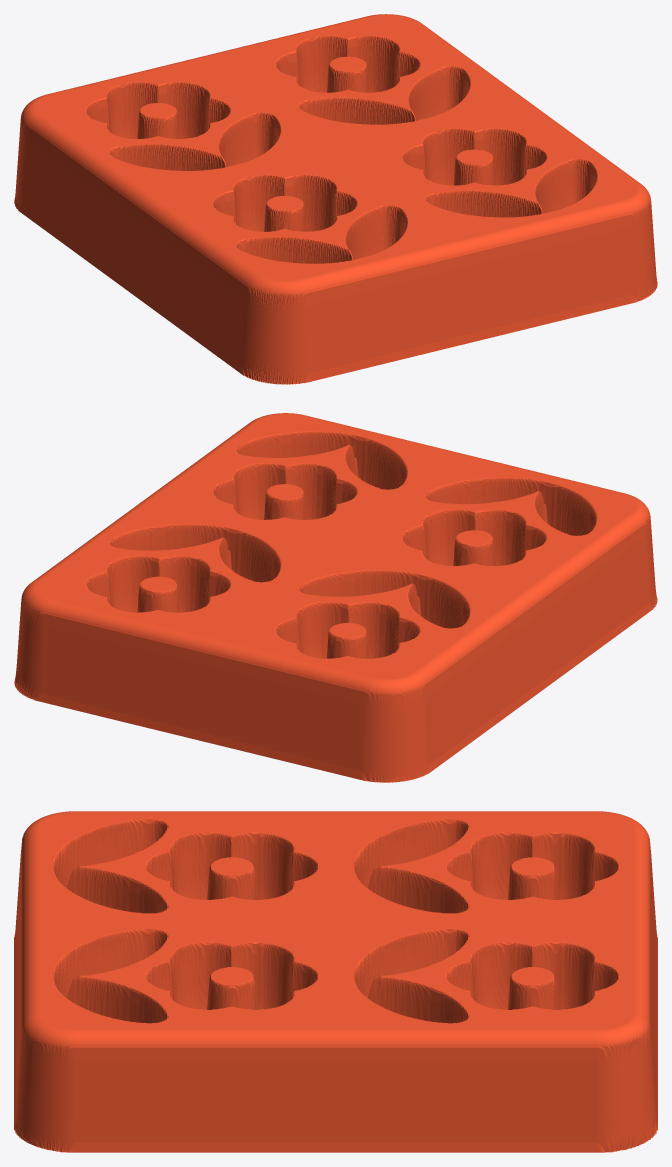
The model's file is mold.glb.
3 views of the same model, one above another, from view 1: azimuth 30°, elevation 25°; view 2: azimuth 150°, elevation 25°; view 3: azimuth 270°, elevation 25° (orthographic). The views are drawn at different scales.
Visible parts, largest first — view 1: geometry_0; view 2: geometry_0; view 3: geometry_0.
Part boxes in pixels (bbox=[...]): geometry_0: bbox=[14, 14, 657, 384]; geometry_0: bbox=[14, 413, 657, 782]; geometry_0: bbox=[14, 811, 657, 1152].
Bounding box in the file's own units: 0.0822 × 0.0182 × 0.0942.
